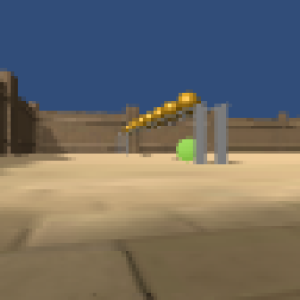goodGoal: (175, 135, 197, 162)
goodGoalMulti: (177, 91, 199, 113), (160, 101, 178, 120), (151, 106, 164, 123), (131, 117, 144, 129), (142, 111, 151, 128)
wall: (193, 107, 207, 166), (214, 105, 227, 168), (117, 131, 131, 156)
